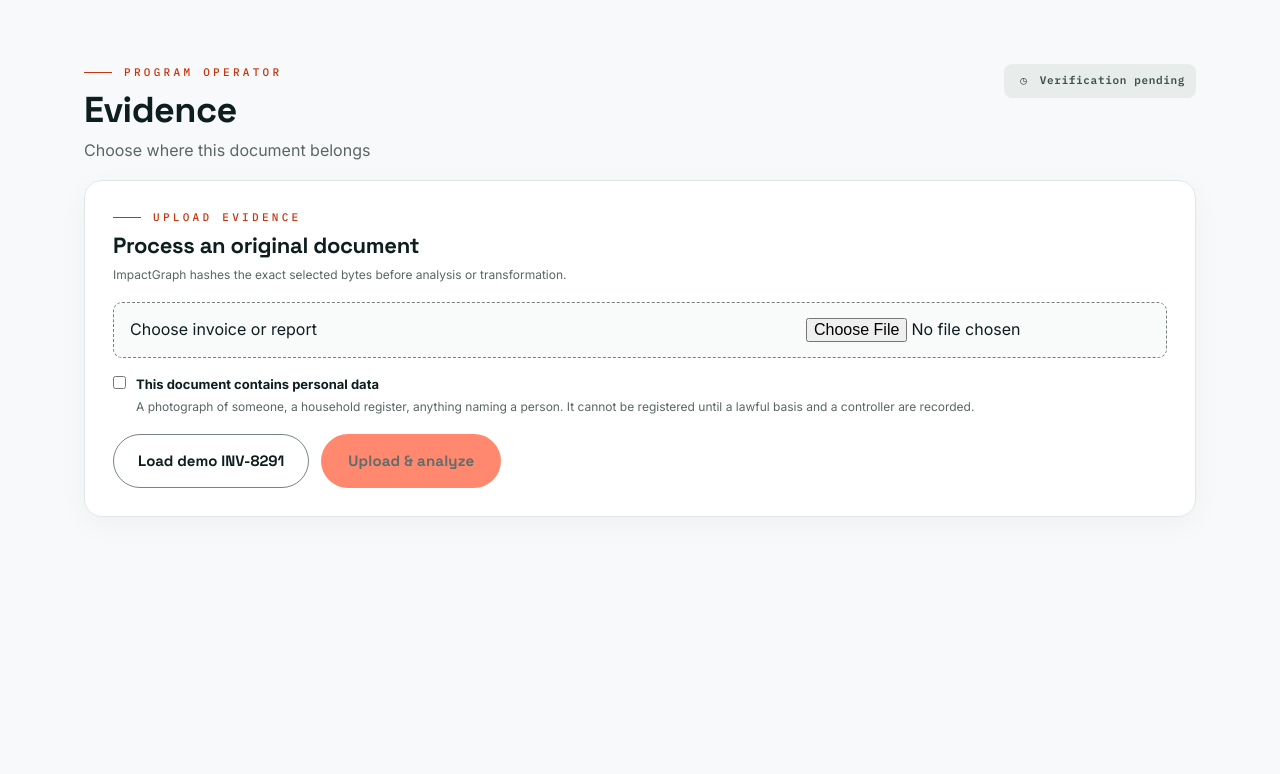
operator review › will not register until a person has confirmed every flagged field
Click the button "Load demo INV-8291" at (211, 461), box [113,434,309,488]
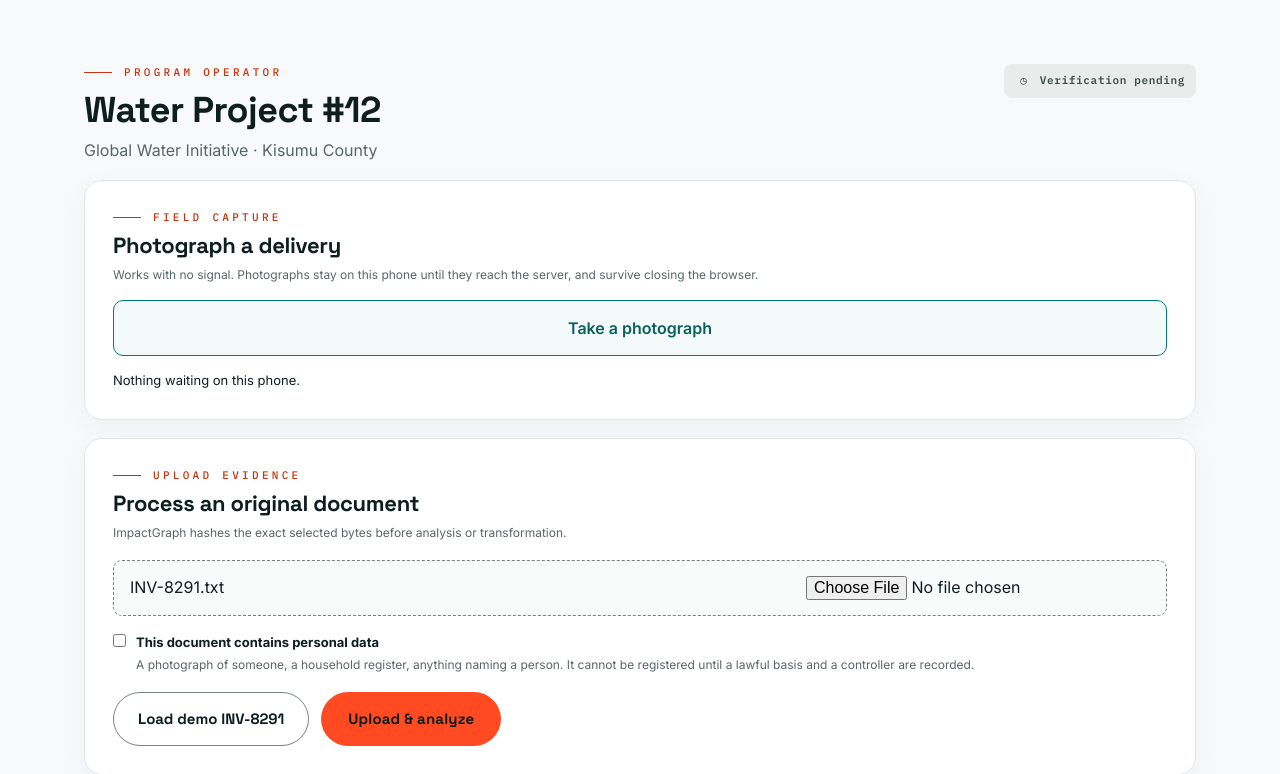
Result: the button "Upload & analyze" is enabled
Click the button "Upload & analyze" at (411, 719), box [321,692,501,746]
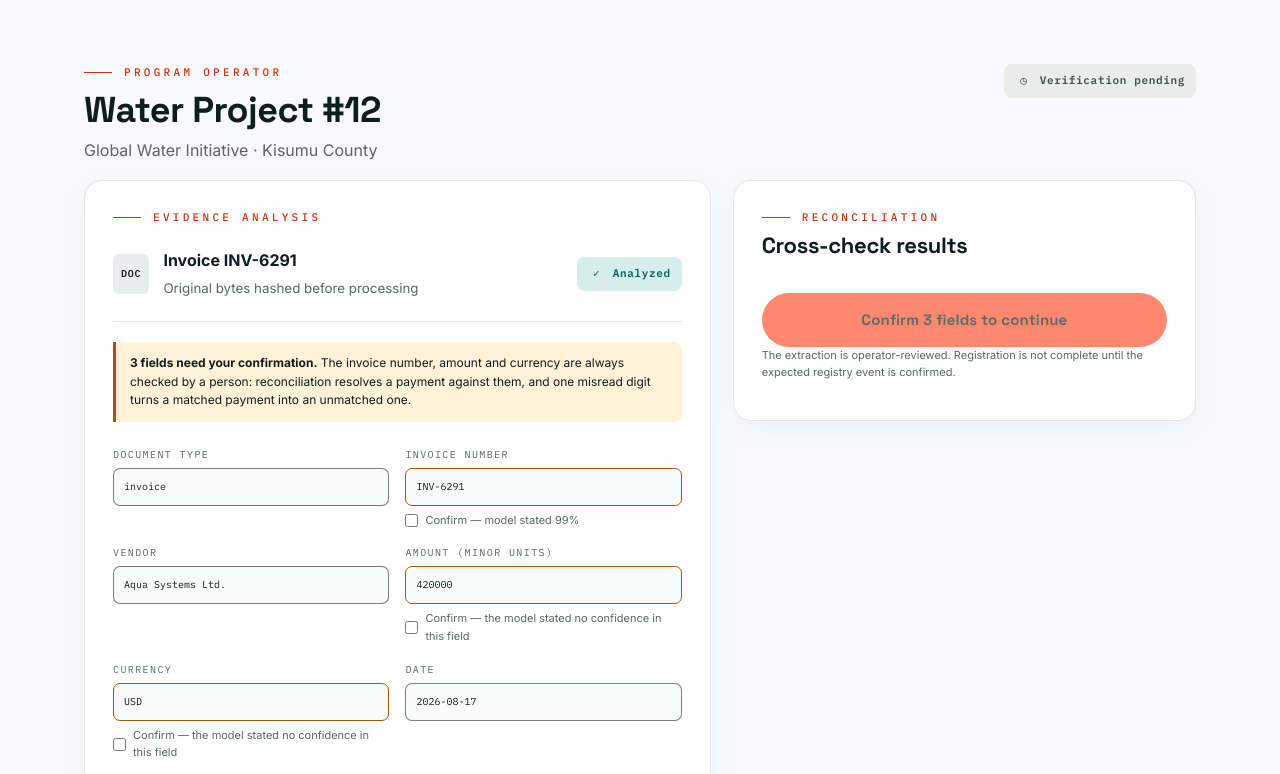
Result: the field showing "INV-6291" is shown at [405,468,682,506]
Result: the button "Confirm 3 fields to continue" is disabled at [762,293,1167,347]
Click the checkbox named "Confirm Invoice number" at (412, 521), box [405,514,418,527]
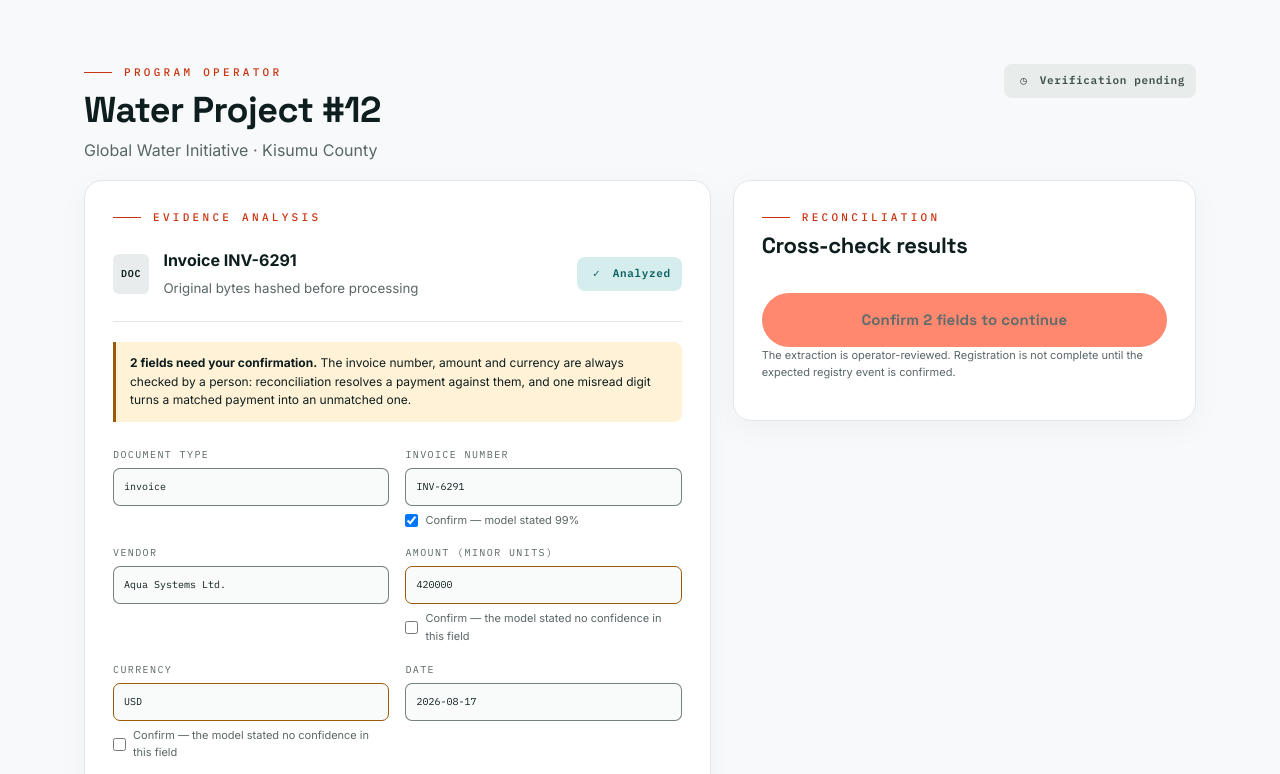
Click the checkbox named "Confirm Currency" at (120, 744), box [113,738,126,751]
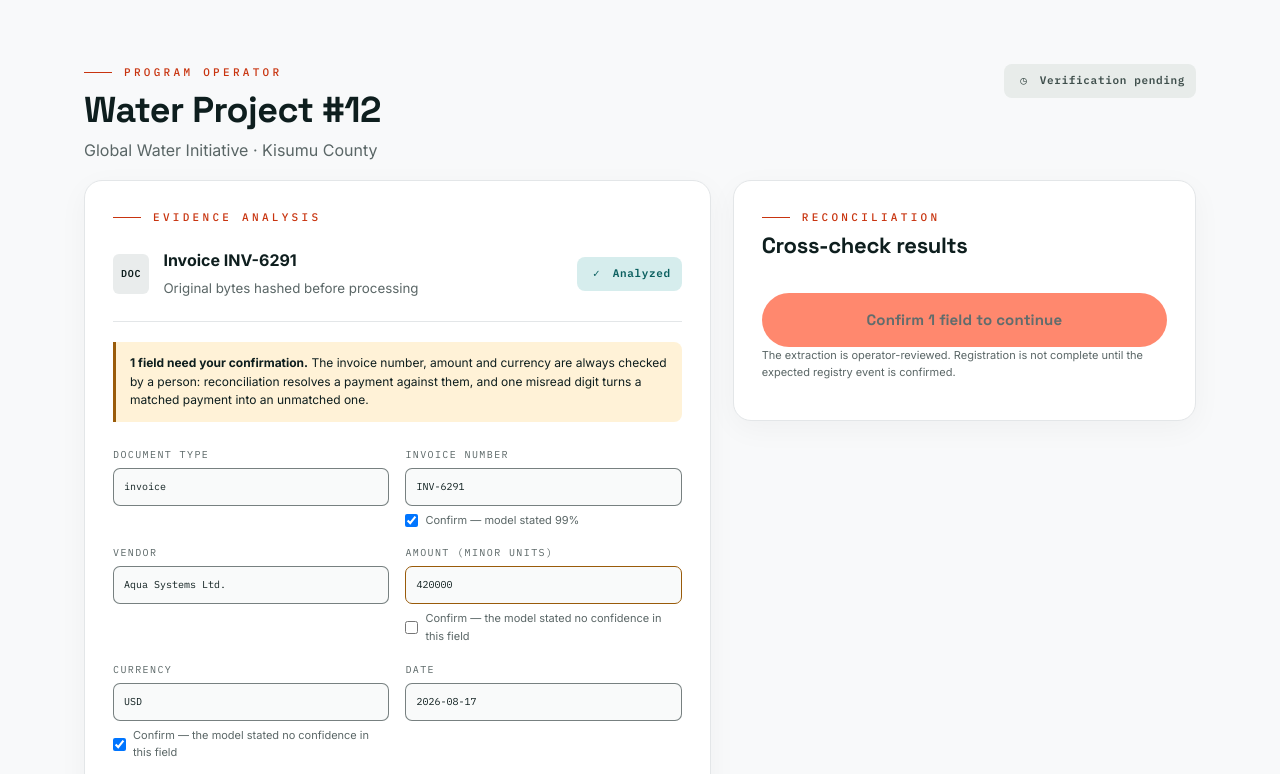
Result: the button "Confirm 1 field to continue" is disabled at [762,293,1167,347]
Click the checkbox named "Confirm Amount (minor units)" at (412, 628), box [405,622,418,634]
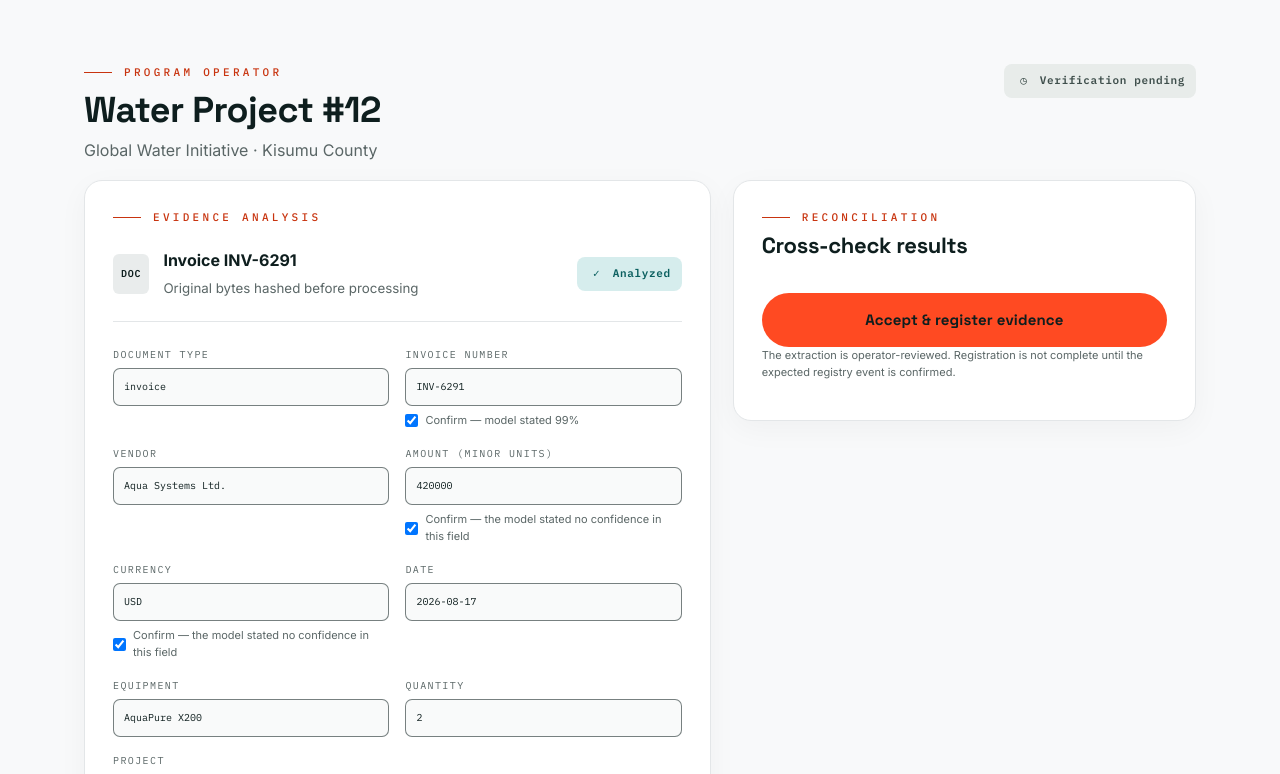
Result: the button "Accept & register evidence" is enabled at [762,293,1167,347]
